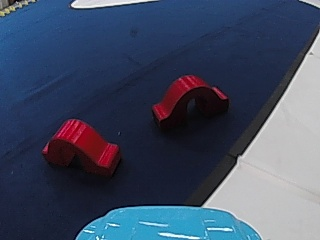bridge: (40, 116, 124, 181), (146, 71, 230, 129)
